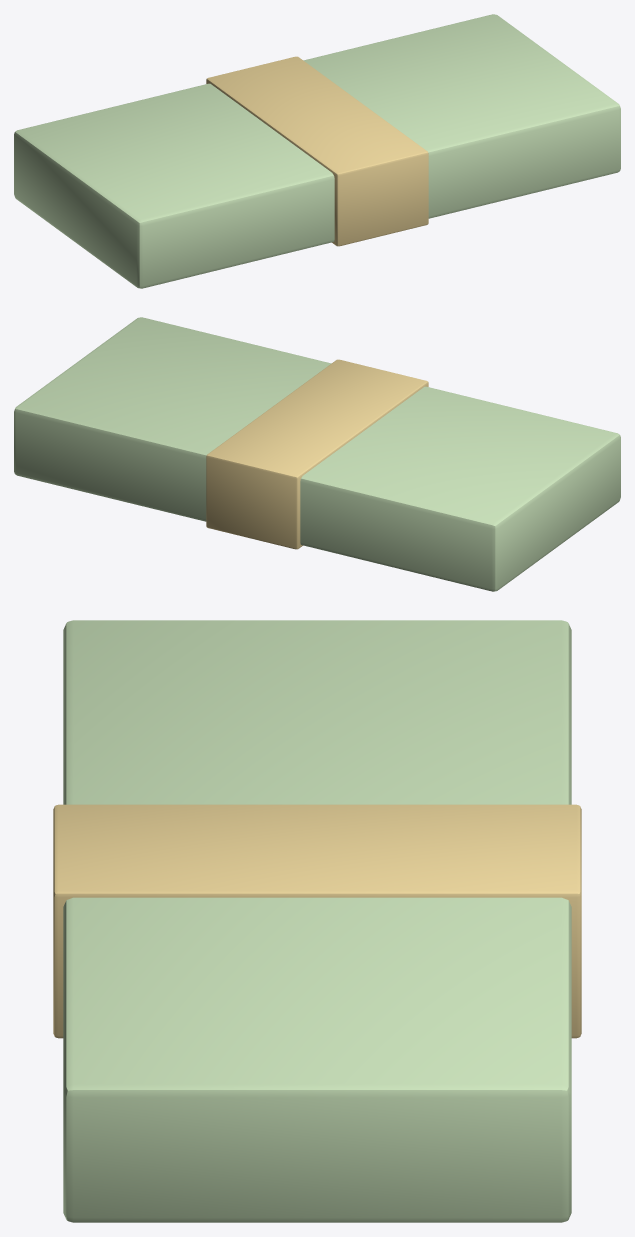
The model's file is CashStack.fbx.
3 renders of one model, top to bottom at view 1: azimuth 30°, elevation 25°; view 2: azimuth 150°, elevation 25°; view 3: azimuth 270°, elevation 25°, orthographic. The views are drawn at different scales.
Parts seen in each view (by area): view 1: Body.015, Band; view 2: Body.015, Band; view 3: Body.015, Band.
Part boxes in pixels (left/top/right/bottom): Body.015: left=14, top=14, right=620, bottom=288; Band: left=206, top=56, right=428, bottom=246; Body.015: left=14, top=317, right=620, bottom=591; Band: left=206, top=359, right=428, bottom=549; Body.015: left=63, top=620, right=571, bottom=1222; Band: left=53, top=804, right=581, bottom=1038.
Size of the model in its own units: 2.2 by 0.32 by 1.04.
